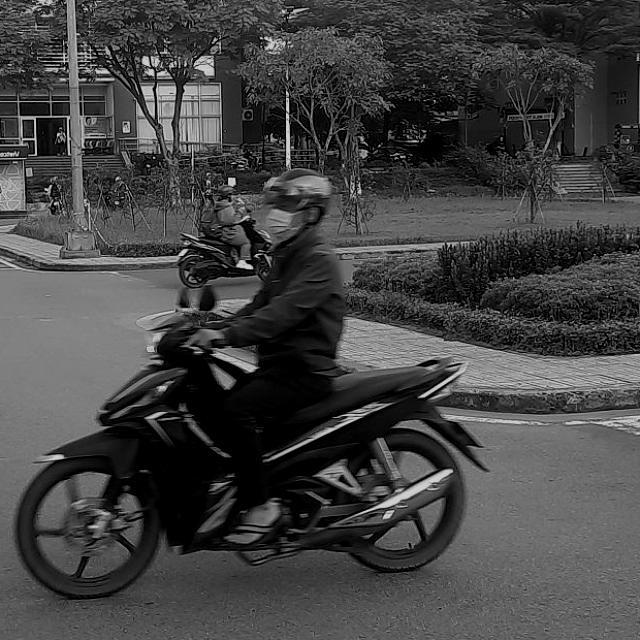Helmet: (266, 167, 332, 240)
